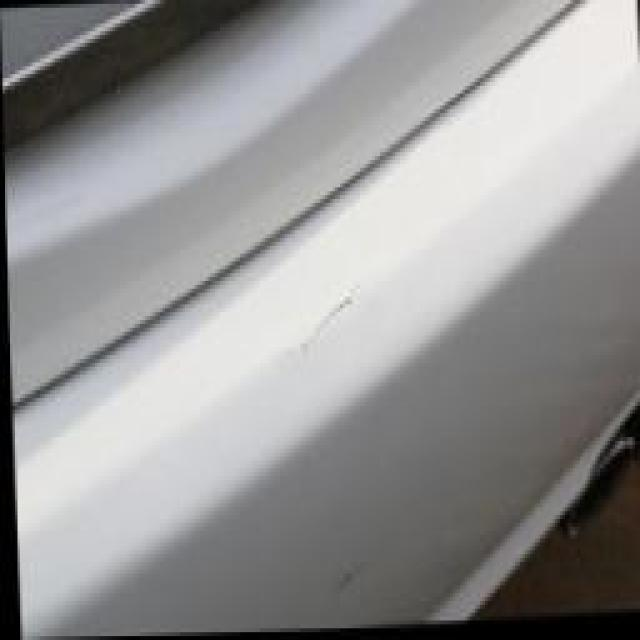Bumper: (130, 168, 472, 610)
